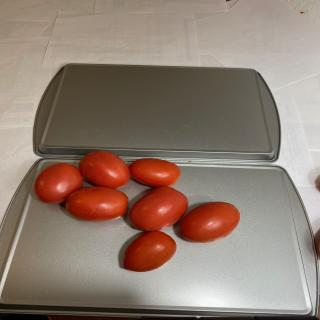Chilli: (34, 150, 240, 272)
Tomato: (129, 186, 189, 232), (180, 201, 240, 243), (65, 186, 128, 222), (123, 231, 177, 272), (34, 162, 83, 204), (79, 150, 130, 189), (128, 158, 181, 187)
